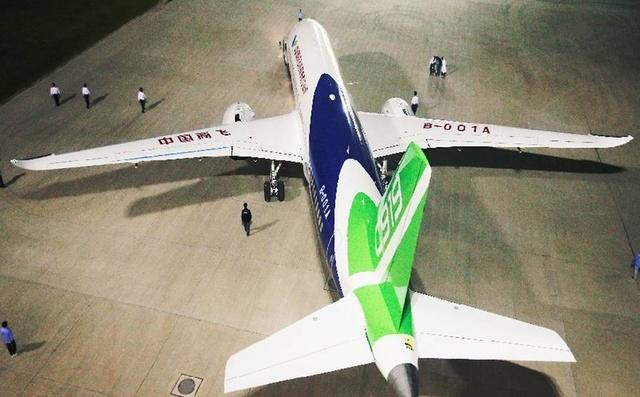airplane: (12, 8, 633, 379)
